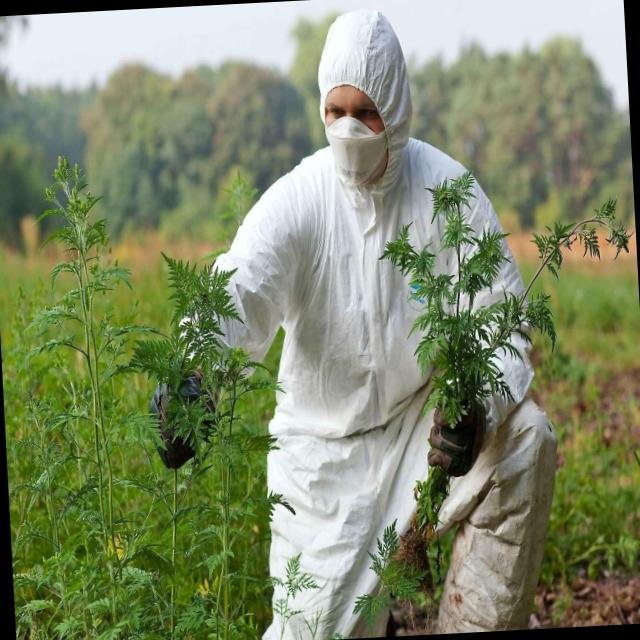ambrosia: (4, 145, 160, 637), (385, 172, 640, 396), (153, 234, 264, 530)
